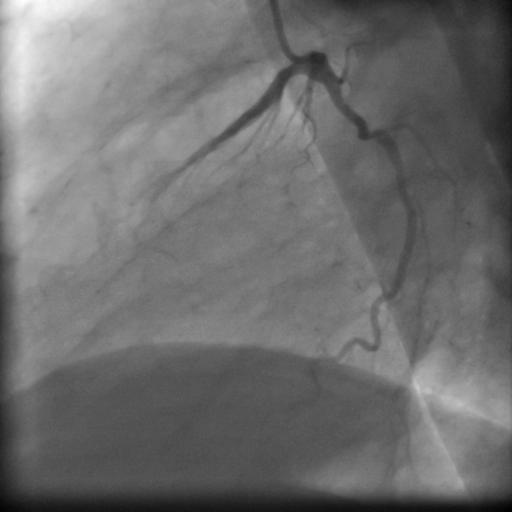Stenosis: (357, 115, 386, 149)
